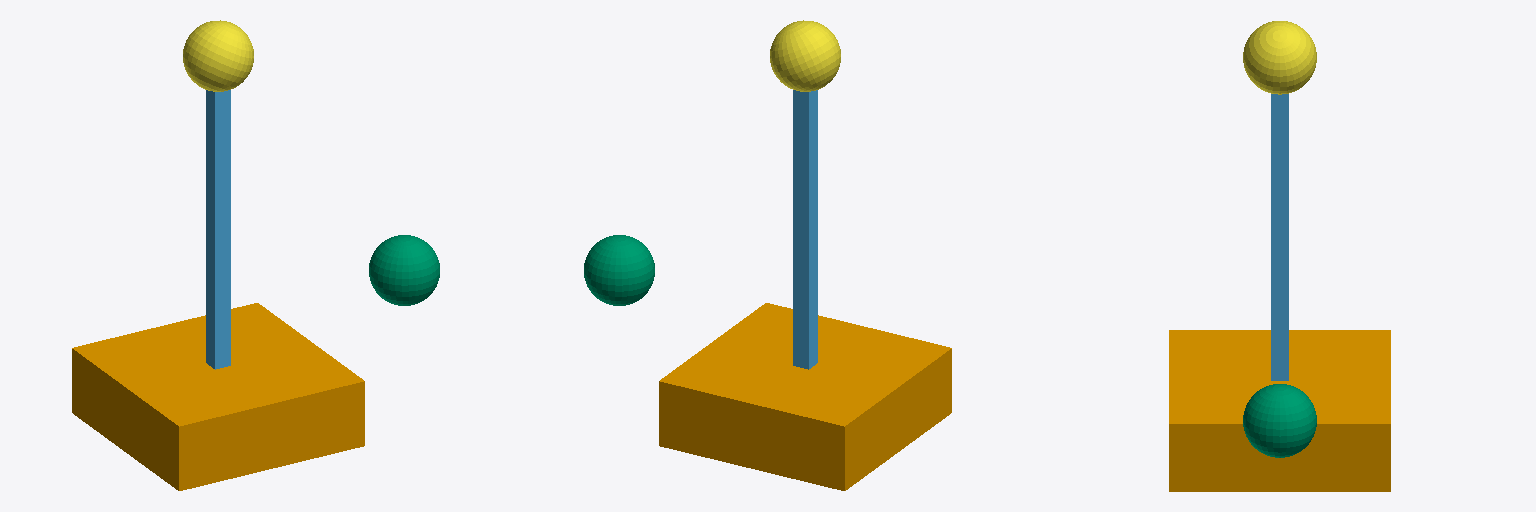
The robot description file, URDF, robot "capra6":
<robot name="capra6">
    <link name="base_link">
        <visual>
            <geometry>
                <!-- <mesh filename="package://capra_gazebo/models/capra6/meshes/capra6.stl"/> -->
                <box size="0.6 0.6 0.2" />
            </geometry>
            <origin rpy="0 0 0" xyz="0 0 0.15" />
        </visual>
        <inertial>
            <mass value="1" />
            <inertia ixx="1.0" ixy="0.0" ixz="0.0" iyy="1.0" iyz="0.0" izz="1.0" />
        </inertial>
        <collision>
            <geometry>
                <box size="0.6 0.6 0.2" />
            </geometry>
            <origin rpy="0 0 0" xyz="0 0 0.15" />
        </collision>
    </link>

    <joint name="joint4" type="fixed">
        <parent link="base_link" />
        <child link="pole" />
        <origin xyz="0 0 0" rpy="0 0 0" />
    </joint>


    <link name="pole">
        <visual>
            <geometry>
                <box size="0.05 0.05 1.2" />
            </geometry>
            <origin rpy="0 0 0" xyz="0 0 0.6" />
        </visual>
        <inertial>
            <mass value="1" />
            <inertia ixx="1.0" ixy="0.0" ixz="0.0" iyy="1.0" iyz="0.0" izz="1.0" />
        </inertial>
        <collision>
            <geometry>
                <box size="0.05 0.05 1.2" />
            </geometry>
            <origin rpy="0 0 0" xyz="0 0 0.6" />
        </collision>
    </link>

    <joint name="joint1" type="fixed">
        <parent link="base_link" />
        <child link="laser" />
        <origin xyz="0.6 0 0.4" rpy="0 0 0" />
    </joint>
        
    <link name="laser">
        <visual>
            <geometry>
                <sphere radius="0.1" />
            </geometry>
        </visual>
        <inertial>
            <mass value="1" />
            <inertia ixx="1.0" ixy="0.0" ixz="0.0" iyy="1.0" iyz="0.0" izz="1.0" />
        </inertial>
        <collision>
            <geometry>
                <sphere radius="0.1" />
            </geometry>
        </collision>
    </link>

    <joint name="joint2" type="fixed">
        <parent link="base_link" />
        <child link="camera" />
        <origin xyz="0 0 1.2" rpy="0 0.5 0" />
    </joint>

    <link name='camera'>
        <visual>
            <geometry>
                <sphere radius="0.1" />
            </geometry>
        </visual>
        <inertial>
            <mass value="1" />
            <inertia ixx="1.0" ixy="0.0" ixz="0.0" iyy="1.0" iyz="0.0" izz="1.0" />
        </inertial>
        <collision>
            <geometry>
                <sphere radius="0.1" />
            </geometry>
        </collision>
    </link>

    <gazebo reference="base_link">
        <gravity>false</gravity>
        <material>Gazebo/Black</material>
    </gazebo>

    <gazebo reference="pole">
        <gravity>false</gravity>
        <material>Gazebo/Grey</material>
    </gazebo>

    <gazebo reference="camera">
        <gravity>false</gravity>
        <material>Gazebo/Red</material>
        <sensor name="camera" type="camera" update_rate="20.0" >
            <camera>
                <horizontal_fov>1.047</horizontal_fov>
                <image>
                    <width>1292</width>
                    <height>734</height>
                </image>
                <clip>
                    <near>0.1</near>
                    <far>100</far>
                </clip>
                <noise>
                    <type>gaussian</type>
                    <mean>0.0</mean>
                    <stddev>0.007</stddev>
                </noise>
            </camera>
            <plugin name="camera_plugin" filename="libgazebo_ros_camera.so">
                <frameName>camera</frameName>
                <imageTopicName>image_raw</imageTopicName>
                <cameraInfoTopicName>camera_info</cameraInfoTopicName>
            </plugin>
            <always_on>1</always_on>
            <update_rate>40</update_rate>
            <visualize>true</visualize>
        </sensor>
    </gazebo>

    <gazebo reference="laser">
        <gravity>false</gravity>
        <material>Gazebo/Red</material>

        <sensor name="laser" type="ray">
            <pose>0.5 0 0.4 0 0 0</pose>
            <ray>
                <scan>
                    <horizontal>
                        <samples>540</samples>
                        <resolution>1</resolution>
                        <min_angle>-2.3562</min_angle>
                        <max_angle>2.3562</max_angle>
                    </horizontal>
                </scan>
                <range>
                    <min>0.5</min>
                    <max>20</max>
                    <resolution>0.01</resolution>
                </range>
                <noise>
                    <type>gaussian</type>
                    <mean>0.0</mean>
                    <stddev>0.01</stddev>
                </noise>
            </ray>
            <plugin name="laser" filename="libgazebo_ros_laser.so">
                <topicName>/scan</topicName>
                <frameName>laser</frameName>
            </plugin>
            <always_on>1</always_on>
            <update_rate>30</update_rate>
            <visualize>true</visualize>
        </sensor>
    </gazebo>

    <gazebo>
        <plugin name="object_controller" filename="libgazebo_ros_planar_move.so">
            <commandTopic>/cmd_vel</commandTopic>
            <odometryTopic>/odom</odometryTopic>
            <odometryRate>20.0</odometryRate>
            <robotBaseFrame>base_footprint</robotBaseFrame>
        </plugin>

        <!-- see http://wiki.ros.org/hector_gazebo_plugins for gps and imu plugins-->

        <plugin name="gazebo_ros_gps" filename="libhector_gazebo_ros_gps.so" >
            <offset x="0" y="0" z="0" />
            <gaussianNoise x="0" y="0" z="0" />
            <referenceLatitude>45.501689</referenceLatitude>
            <referenceLongitude>-73.567256</referenceLongitude>
            <referenceHeading>0</referenceHeading>
            <bodyName>base_link</bodyName>
            <topicName>fix</topicName>
            <updateRate>100</updateRate>
        </plugin>

        <plugin name="gazebo_ros_imu" filename="libhector_gazebo_ros_imu.so">
            <bodyName>base_link</bodyName>
            <topicName>imu_data</topicName>
            <updateRate>100</updateRate>
            <headingGaussianNoise>0.0</headingGaussianNoise>
            <headingOffset>0.0</headingOffset>
        </plugin>

    </gazebo>


</robot>

--- Facts derived from the render (not from the file) ---
3 views of the same robot in one strip: view 1: azimuth 30°, elevation 25°; view 2: azimuth 150°, elevation 25°; view 3: azimuth 270°, elevation 25° (orthographic).
Model capra6 with 4 links and 3 joints (3 fixed), rooted at base_link, posed every joint at zero.
Links seen in each view (by area): view 1: base_link, pole, camera, laser; view 2: base_link, pole, camera, laser; view 3: base_link, pole, laser, camera.
Boxes of the visible links, x1=… form: base_link: x1=72, y1=303, x2=364, y2=490; pole: x1=206, y1=90, x2=230, y2=369; camera: x1=183, y1=20, x2=253, y2=91; laser: x1=369, y1=235, x2=439, y2=305; base_link: x1=659, y1=303, x2=951, y2=490; pole: x1=793, y1=90, x2=817, y2=369; camera: x1=770, y1=20, x2=840, y2=91; laser: x1=584, y1=235, x2=654, y2=305; base_link: x1=1169, y1=330, x2=1390, y2=491; pole: x1=1271, y1=94, x2=1288, y2=380; laser: x1=1243, y1=384, x2=1316, y2=457; camera: x1=1243, y1=21, x2=1316, y2=94.
Bounding box of the posed robot: 1 × 0.6 × 1.3 m (x, y, z).
Geometry: primitives only (box / cylinder / sphere), no mesh files.
